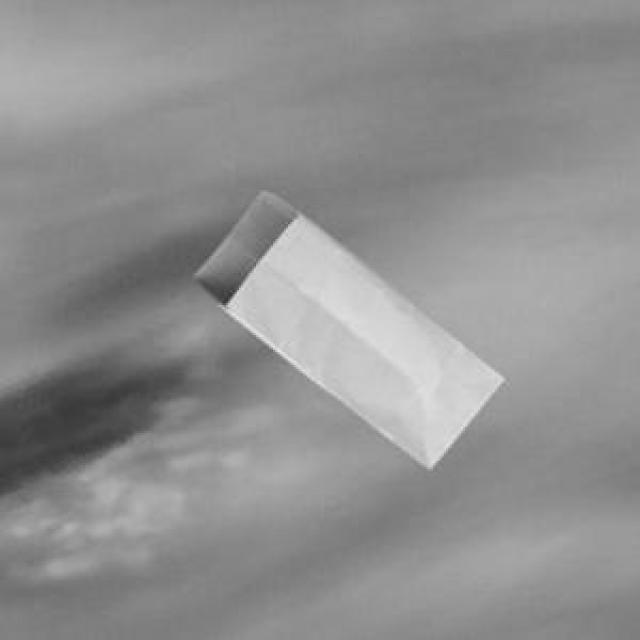paper: (190, 188, 499, 465)
